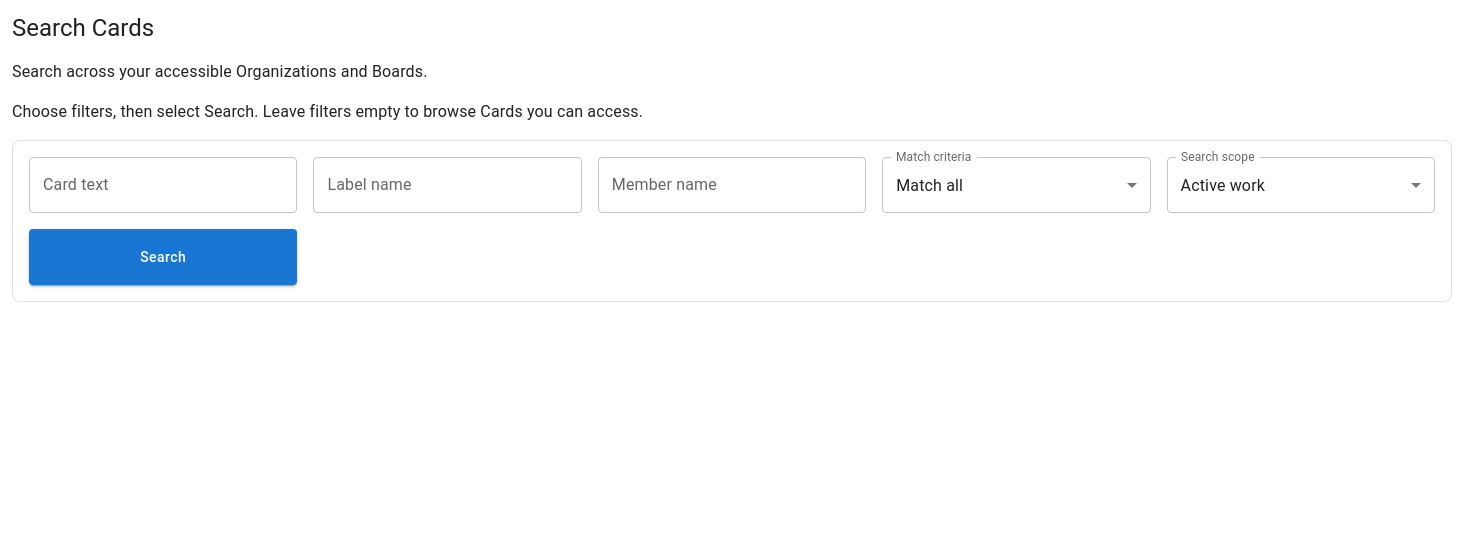
it: identifies an unapplied Card text edit without submitting or moving focus
In the field labelled "Card text": [163, 185] box x1=29 y1=157 x2=297 y2=213, type "landscaping"
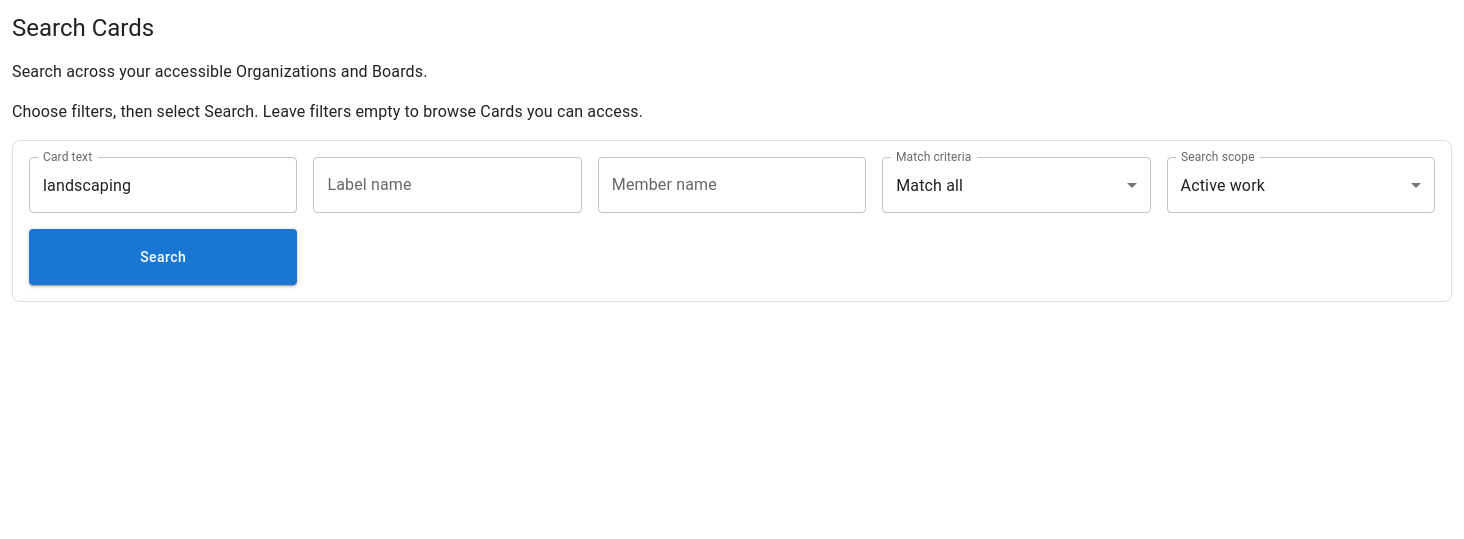
Submit the form "Card text", box x1=12 y1=140 x2=1452 y2=302
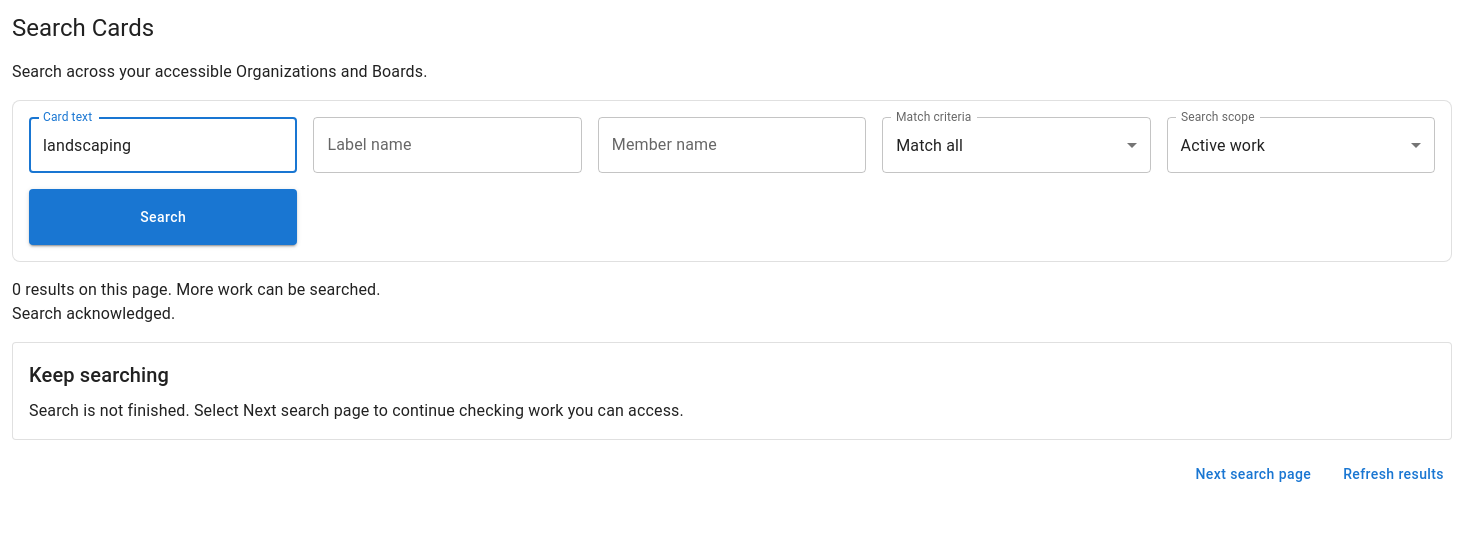
Now the button "Next search page" is shown, box x1=1188 y1=456 x2=1319 y2=492
Replace the text in the field labelled "Card text" with "unsent": [163, 145] box x1=29 y1=117 x2=297 y2=173
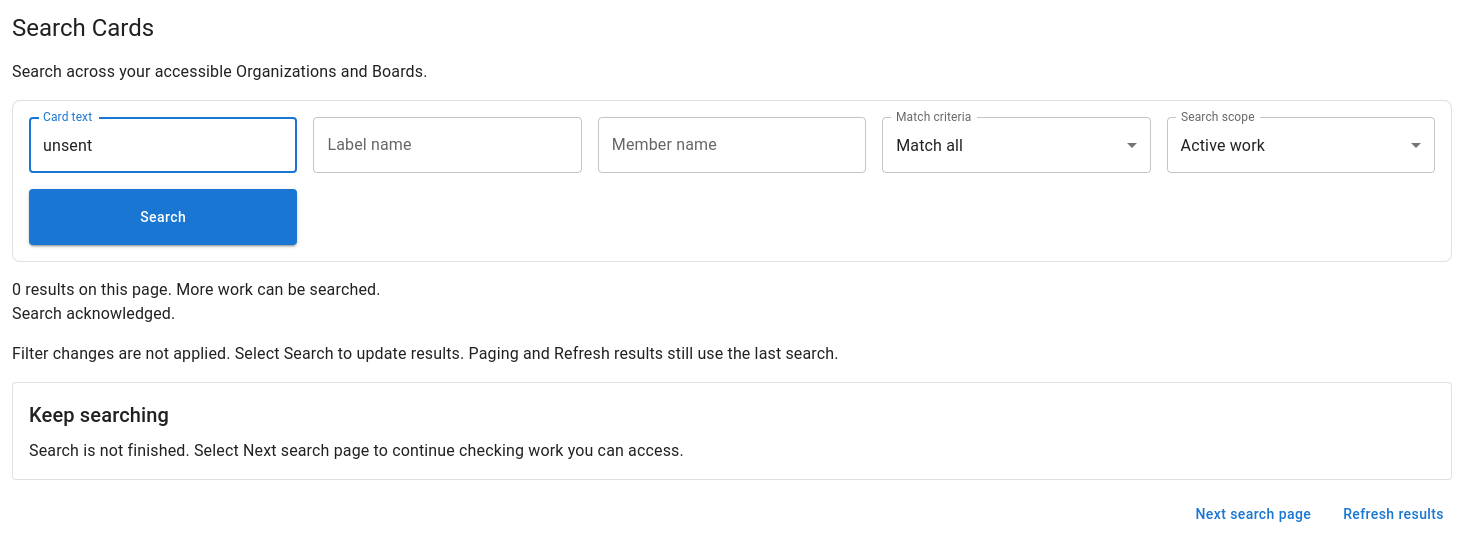
Expected: the message does not show "Filter changes are not applied. Select Search to update results. Paging and Refresh results still use the last search.", x1=12 y1=280 x2=381 y2=323
Now the text named "Unapplied Search filters" shows "Filter changes are not applied. Select Search to update results. Paging and Refresh results still use the last search.", box x1=12 y1=344 x2=839 y2=363
